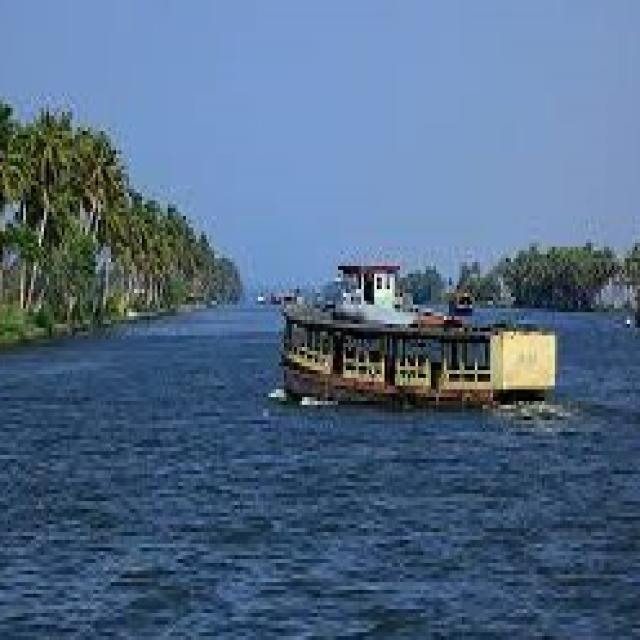houseboat: (264, 241, 554, 395)
